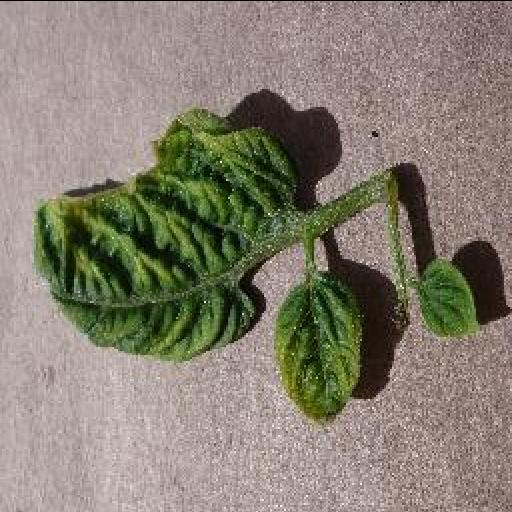disease_tomato: (30, 109, 302, 358), (274, 276, 366, 422)
